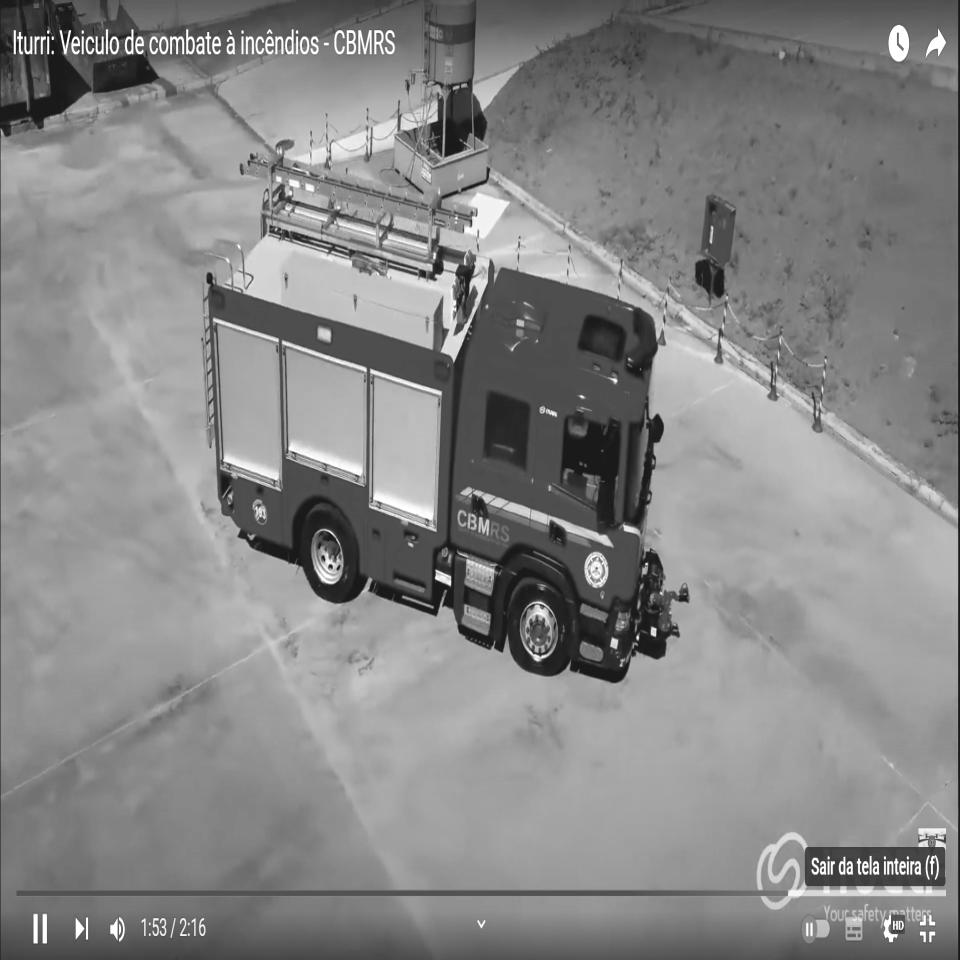bombeiro: (197, 137, 691, 679)
